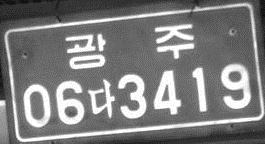0: (23, 83, 51, 128)
1: (187, 68, 214, 112)
3: (117, 73, 146, 120)
4: (152, 70, 181, 115)
6: (55, 80, 84, 124)
9: (220, 63, 251, 109)
광주_D: (64, 23, 194, 69)
다: (87, 79, 115, 118)
